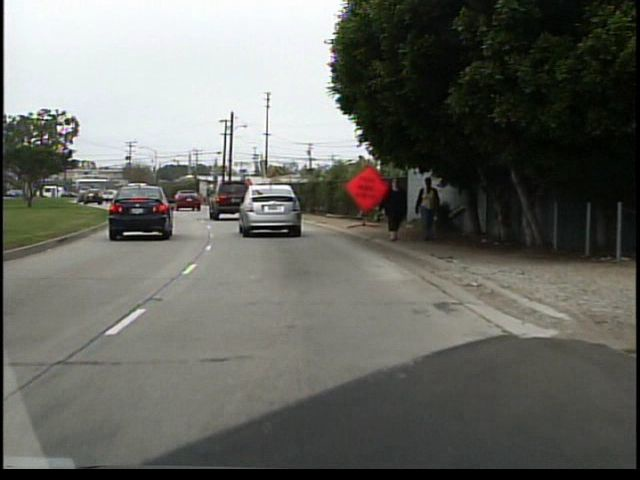person: (372, 172, 411, 248), (411, 176, 440, 245)
